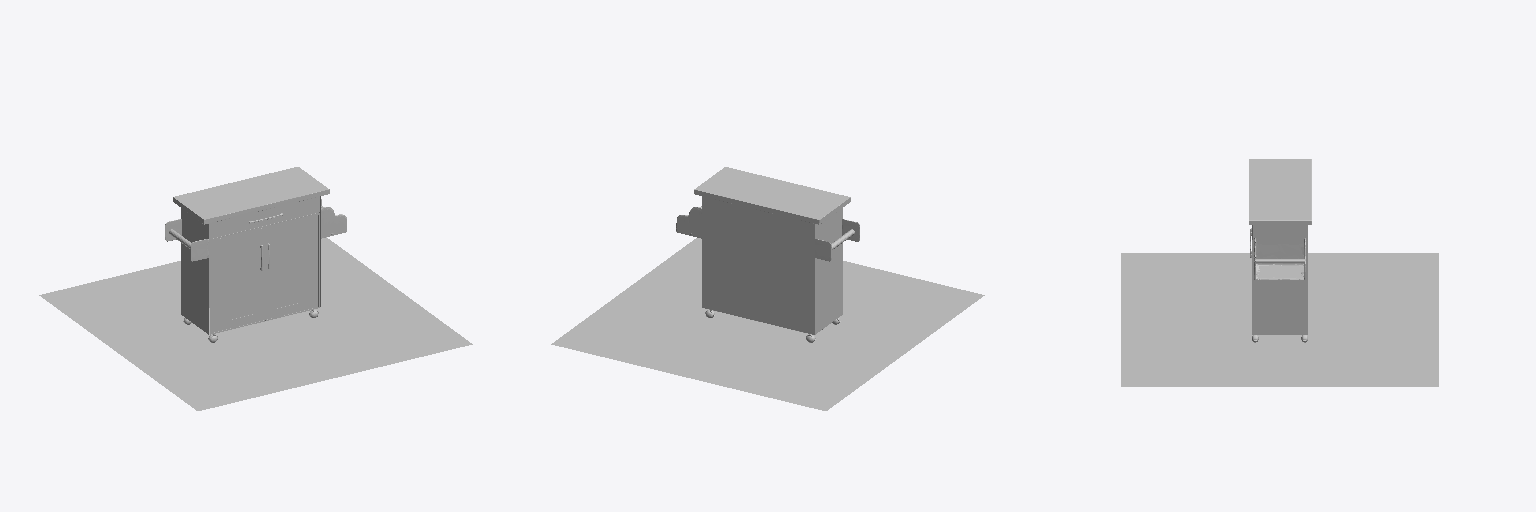
Rendered from CHRH6150.obj.
3 views of the same model, side by side, from view 1: azimuth 30°, elevation 25°; view 2: azimuth 150°, elevation 25°; view 3: azimuth 270°, elevation 25° (orthographic).
Visible parts, largest first — view 1: shadow_plane_v6, not_clear_obj_0_v6, not_clear_obj_1_v6; view 2: shadow_plane_v6, not_clear_obj_0_v6, not_clear_obj_1_v6; view 3: shadow_plane_v6, not_clear_obj_0_v6, not_clear_obj_1_v6.
Boxes of the visible parts, x1=… form: shadow_plane_v6: x1=39, y1=237, x2=472, y2=410; not_clear_obj_0_v6: x1=165, y1=196, x2=346, y2=342; not_clear_obj_1_v6: x1=173, y1=167, x2=329, y2=224; shadow_plane_v6: x1=551, y1=238, x2=984, y2=410; not_clear_obj_0_v6: x1=676, y1=196, x2=859, y2=342; not_clear_obj_1_v6: x1=694, y1=167, x2=850, y2=224; shadow_plane_v6: x1=1121, y1=253, x2=1438, y2=386; not_clear_obj_0_v6: x1=1252, y1=225, x2=1307, y2=342; not_clear_obj_1_v6: x1=1249, y1=159, x2=1311, y2=224.
Bounding box in the file's own units: 200 × 88.66 × 200.